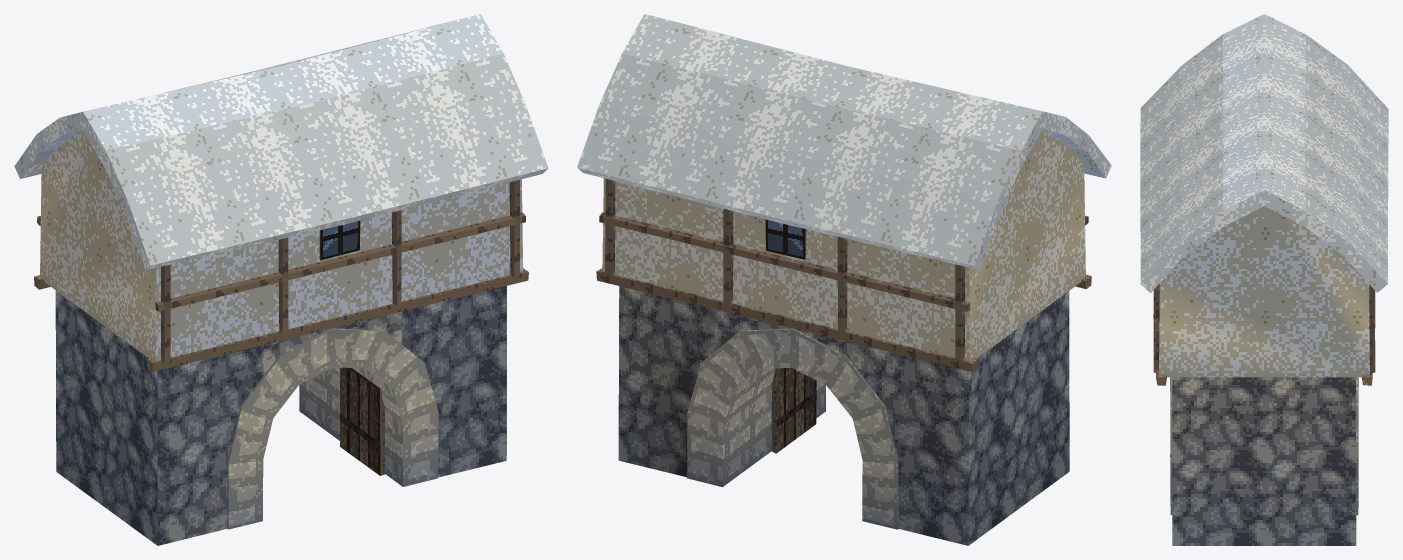
Rendered from vlg.gatehouse__open.glb.
The picture shows the model from 3 angles, left to right: view 1: azimuth 30°, elevation 25°; view 2: azimuth 150°, elevation 25°; view 3: azimuth 270°, elevation 25°; orthographic projection. The views are drawn at different scales.
Parts seen in each view (by area): view 1: kit_roof, kit_stonework, kit_walls, kit_frame, kit_fittings; view 2: kit_roof, kit_stonework, kit_walls, kit_frame, kit_fittings; view 3: kit_roof, kit_stonework, kit_walls, kit_frame.
Boxes of the visible parts, box(x1,y1,x2,y2) form: kit_roof: box(14, 14, 548, 270); kit_stonework: box(55, 286, 506, 545); kit_walls: box(40, 130, 523, 361); kit_frame: box(34, 180, 528, 371); kit_fittings: box(319, 220, 384, 475); kit_roof: box(577, 14, 1111, 270); kit_stonework: box(618, 286, 1069, 545); kit_walls: box(602, 130, 1085, 361); kit_frame: box(596, 179, 1091, 371); kit_fittings: box(765, 219, 816, 453); kit_roof: box(1140, 14, 1388, 293); kit_stonework: box(1170, 377, 1358, 545); kit_walls: box(1159, 206, 1369, 377); kit_frame: box(1153, 284, 1375, 385).
Size of the model in its own units: 9.12 by 8.82 by 5.41.
Materials: 8 (8 with a texture image).
